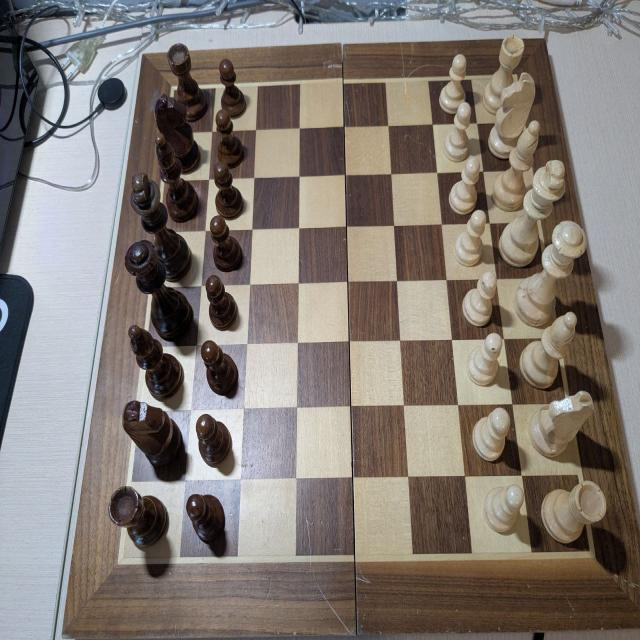black_bishop: (125, 326, 185, 397), (155, 136, 200, 224)
black_king: (130, 171, 191, 282)
black_knight: (121, 400, 182, 470), (154, 93, 201, 175)
black_pawn: (200, 340, 239, 399), (204, 273, 239, 333), (186, 492, 226, 544), (195, 412, 233, 466), (209, 215, 243, 272), (212, 161, 243, 220), (215, 107, 243, 167), (219, 58, 246, 118)
black_queen: (124, 240, 195, 342)
black_rook: (107, 485, 168, 548), (166, 42, 207, 122)
white_bishop: (519, 311, 581, 390), (492, 120, 540, 211)
white_king: (498, 159, 566, 269)
white_knight: (529, 390, 595, 458), (488, 75, 536, 160)
white_pawn: (466, 332, 504, 388), (471, 407, 510, 461), (484, 483, 524, 534), (462, 271, 497, 329), (449, 156, 482, 216), (454, 208, 487, 267), (438, 52, 468, 115), (444, 101, 474, 162)
white_queen: (511, 217, 587, 329)
white_rook: (540, 479, 607, 544), (482, 34, 524, 116)
